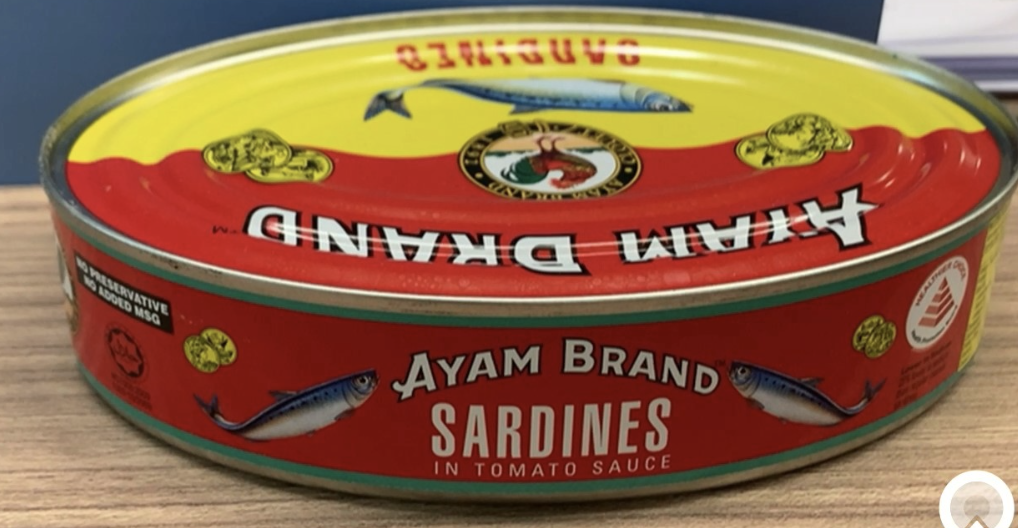sardines_400g-499g: (87, 33, 981, 448)
